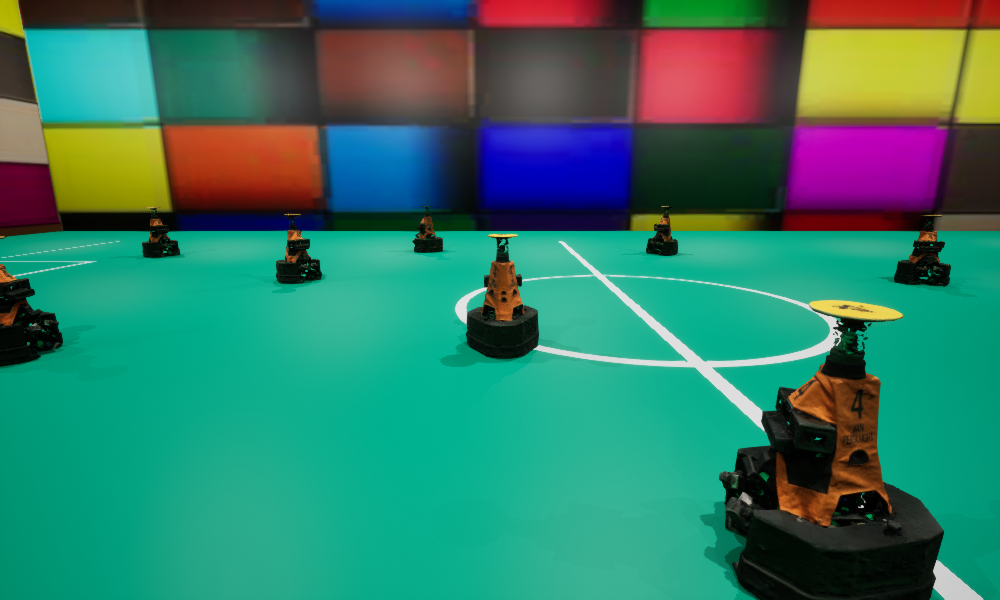0 orange robot TechUnited: (719, 300, 943, 599), (466, 234, 538, 358), (0, 236, 62, 366), (894, 215, 950, 285), (276, 214, 321, 283), (142, 207, 179, 257), (646, 206, 677, 254), (412, 206, 442, 252)
